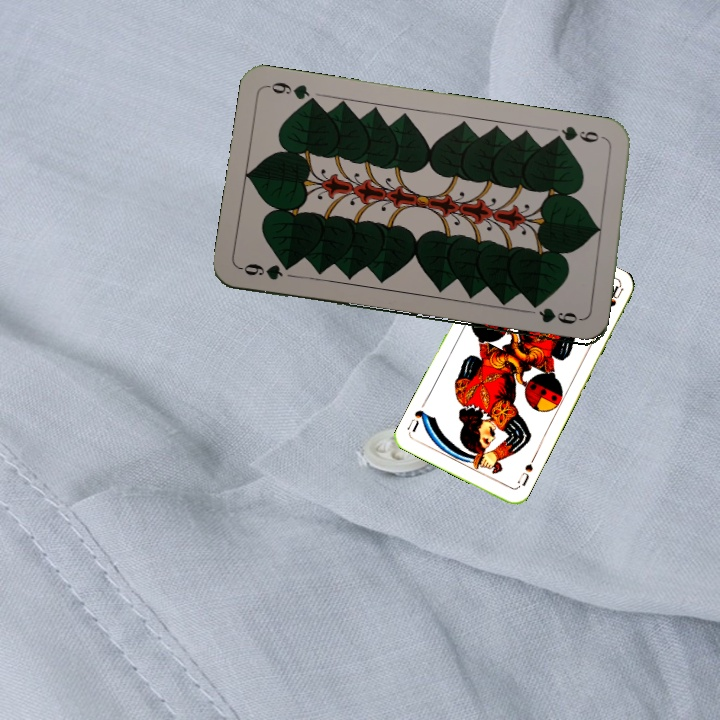G9: (550, 122, 610, 145), (236, 259, 286, 283)
SU: (513, 453, 537, 491)
